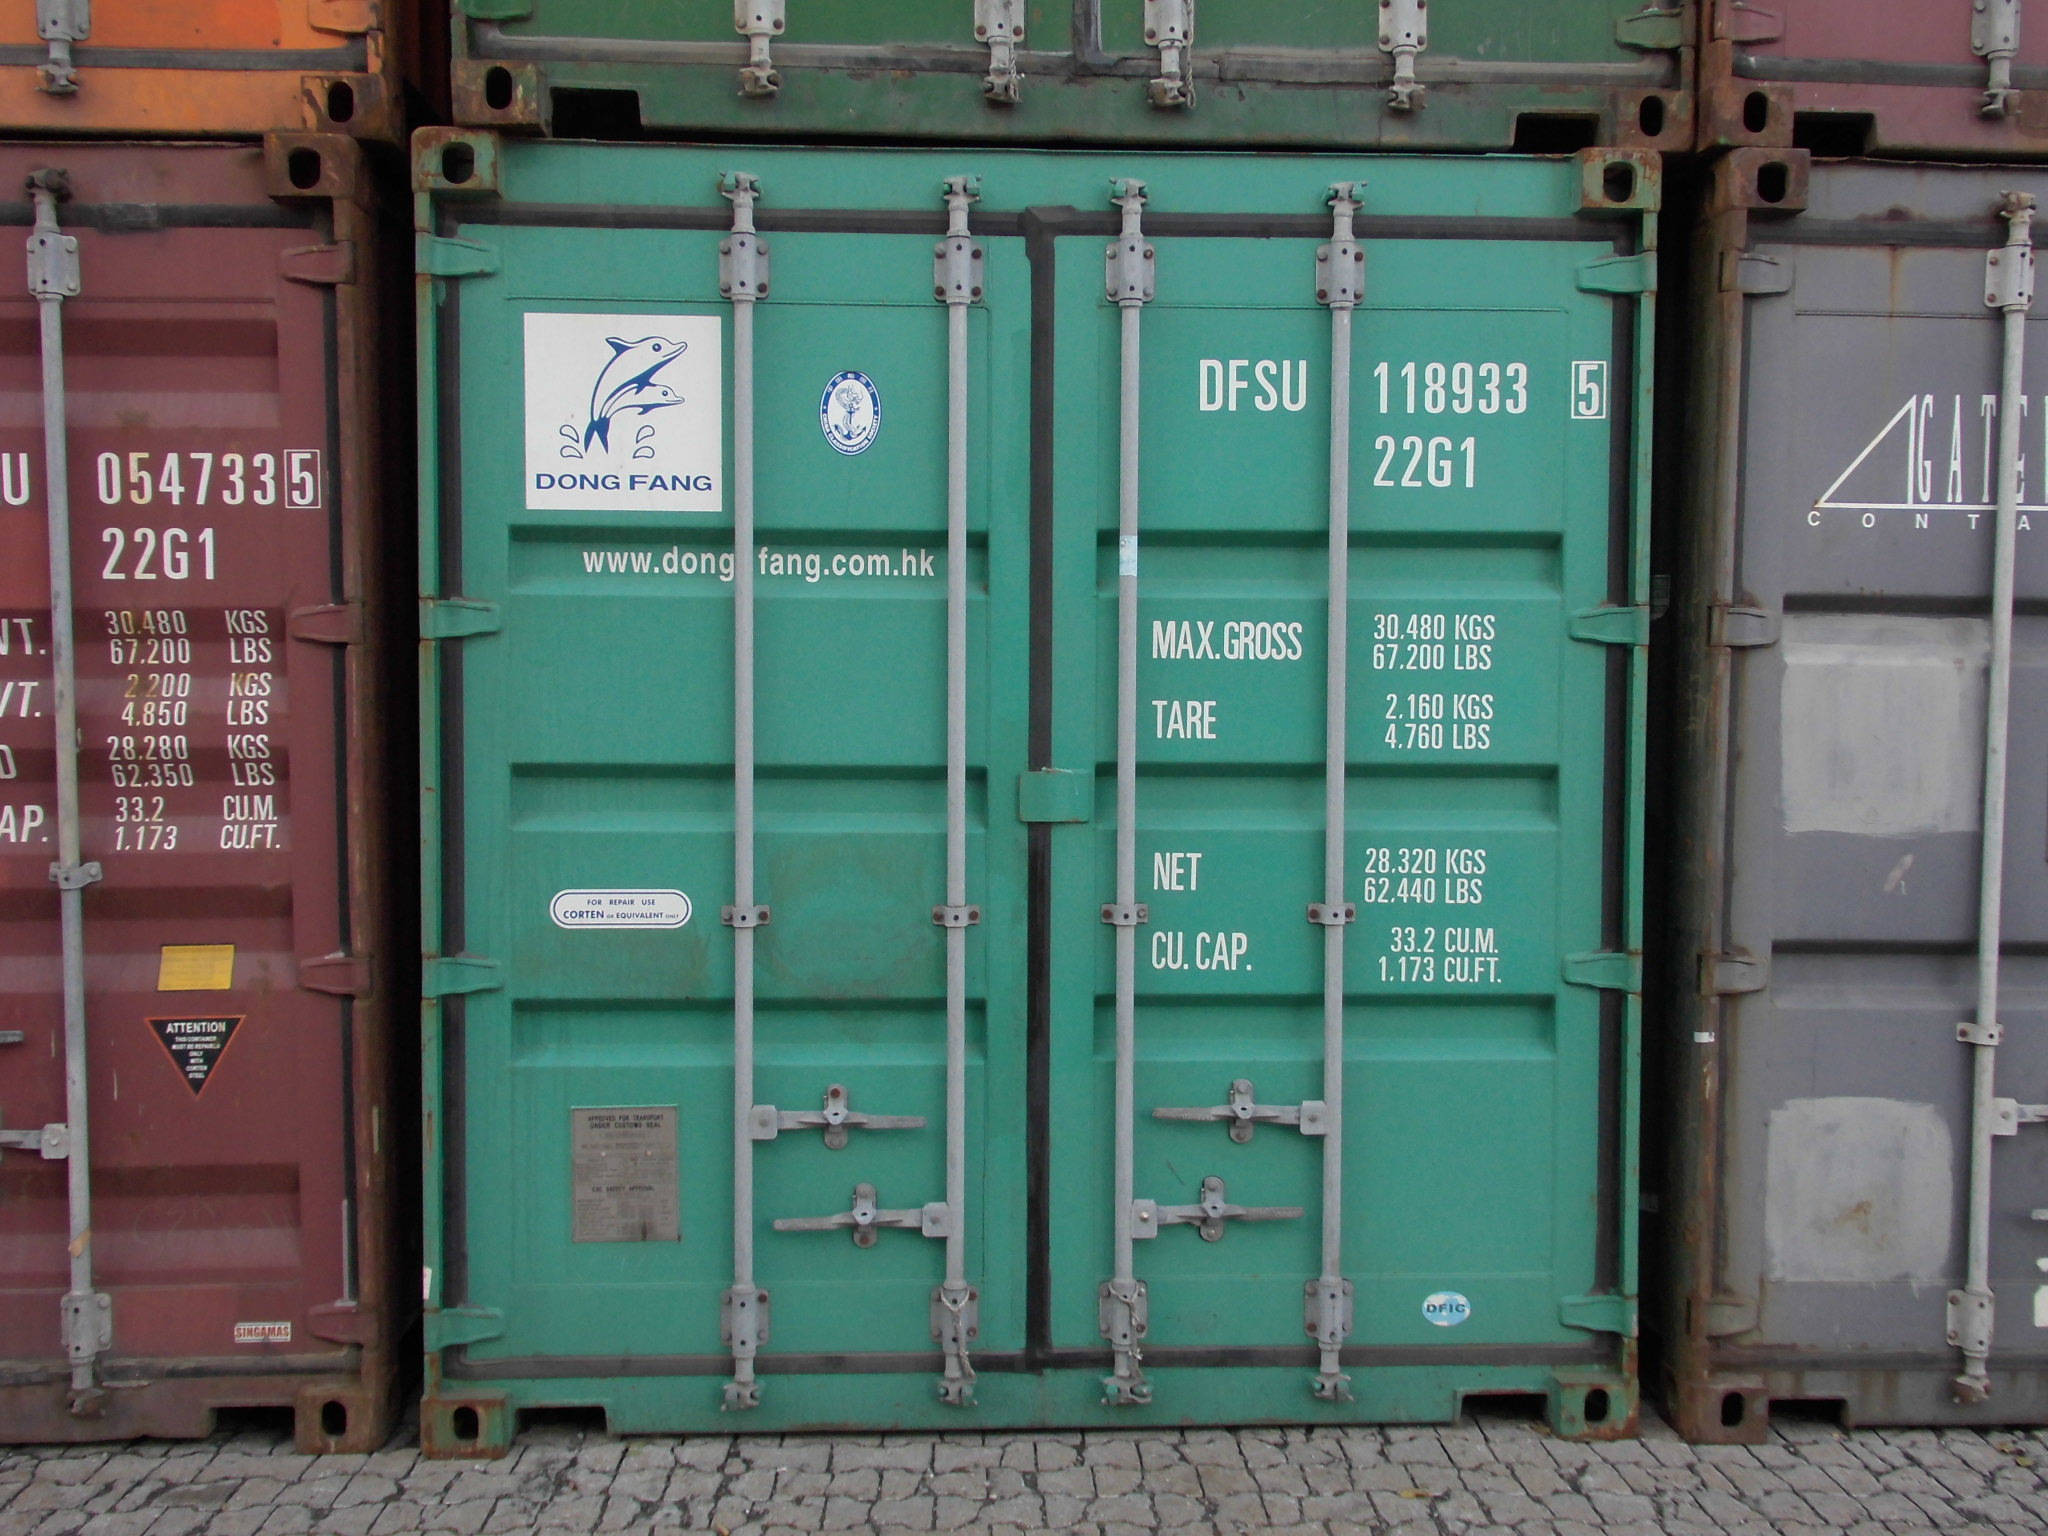container_door: (410, 102, 1650, 1438)
